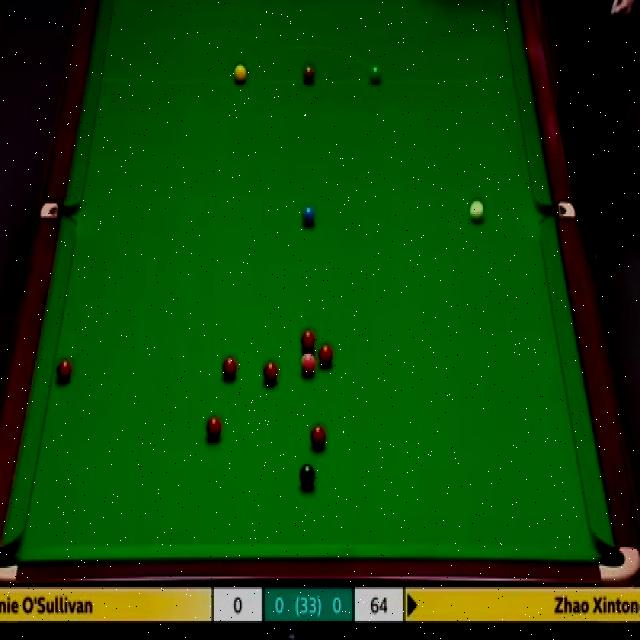black-ball: (298, 464, 316, 491)
blue-ball: (300, 206, 316, 229)
brown-ball: (302, 63, 315, 85)
green-ball: (370, 66, 382, 85)
pink-ball: (301, 352, 317, 379)
red-ball: (56, 356, 74, 384), (261, 359, 279, 385), (310, 426, 328, 451), (205, 418, 222, 441), (317, 343, 333, 367), (223, 355, 237, 379), (302, 328, 316, 352)
white-ball: (469, 200, 486, 226)
yellow-ball: (232, 63, 246, 85)
